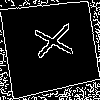X: (25, 21, 74, 63)
